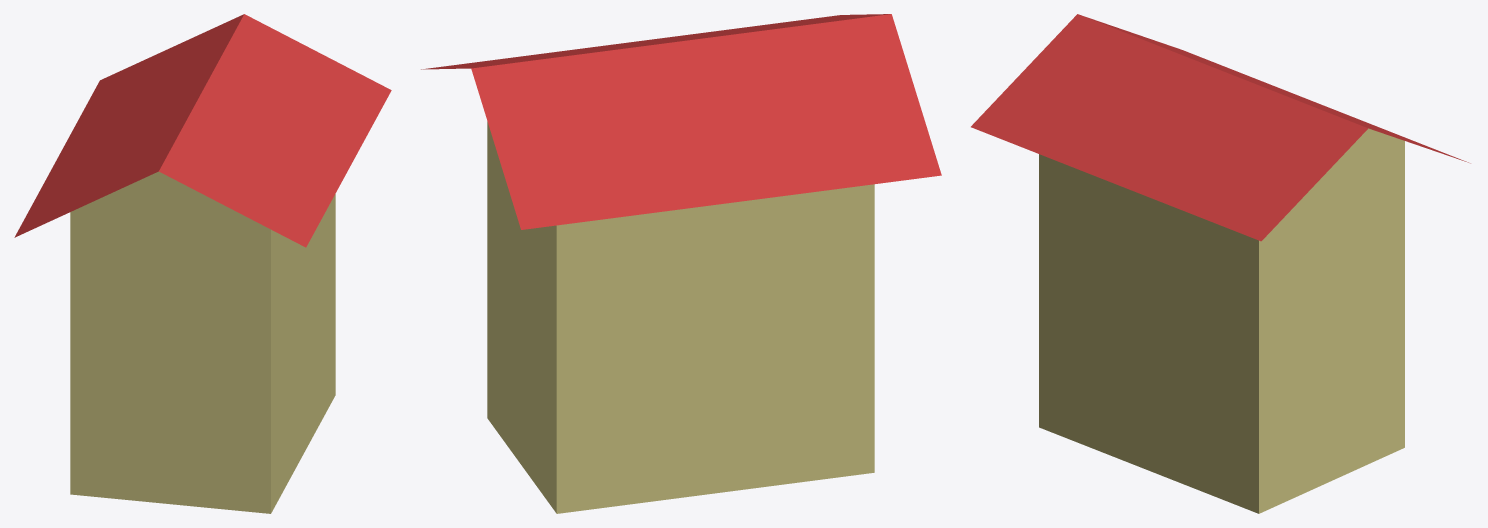
3 renders of one model, left to right at view 1: azimuth 30°, elevation 25°; view 2: azimuth 150°, elevation 25°; view 3: azimuth 270°, elevation 25°, orthographic. The views are drawn at different scales.
Bounding box in the file's own units: 7.7 × 7.76 × 6.23.
